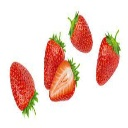strawberry: (9, 59, 38, 120), (95, 34, 121, 85), (43, 36, 65, 87), (50, 60, 76, 101), (68, 12, 93, 53)
